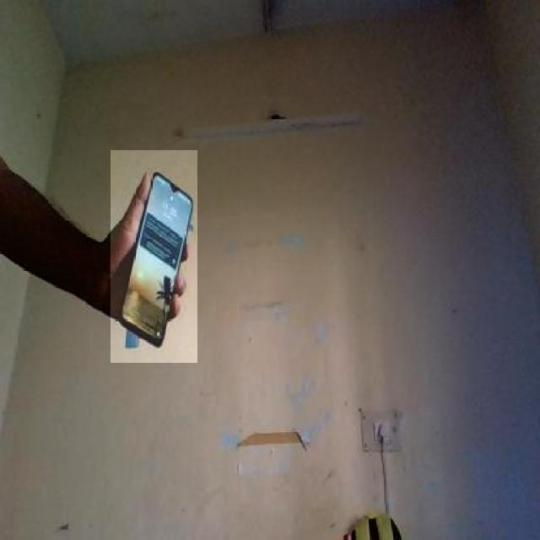phone: (122, 170, 194, 352)
